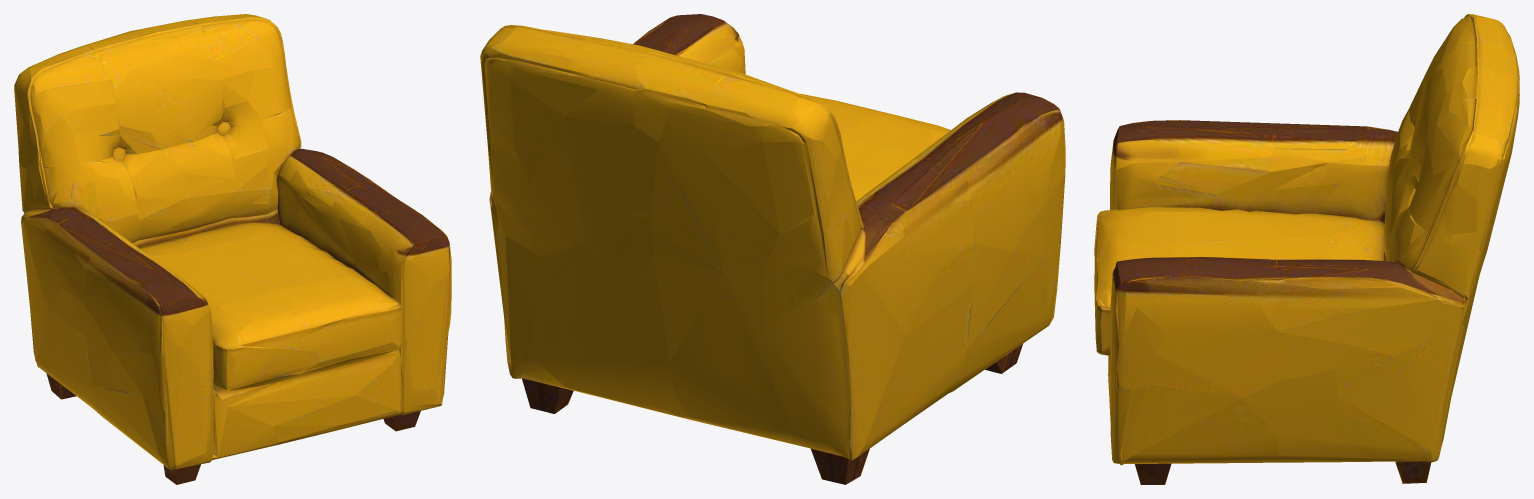
Rendered from armchair.glb.
3 views of the same model, side by side, from view 1: azimuth 30°, elevation 25°; view 2: azimuth 150°, elevation 25°; view 3: azimuth 270°, elevation 25° (orthographic). The views are drawn at different scales.
Size of the model in its own units: 1.75 by 1.74 by 1.9.
1 material, 1 textured.
